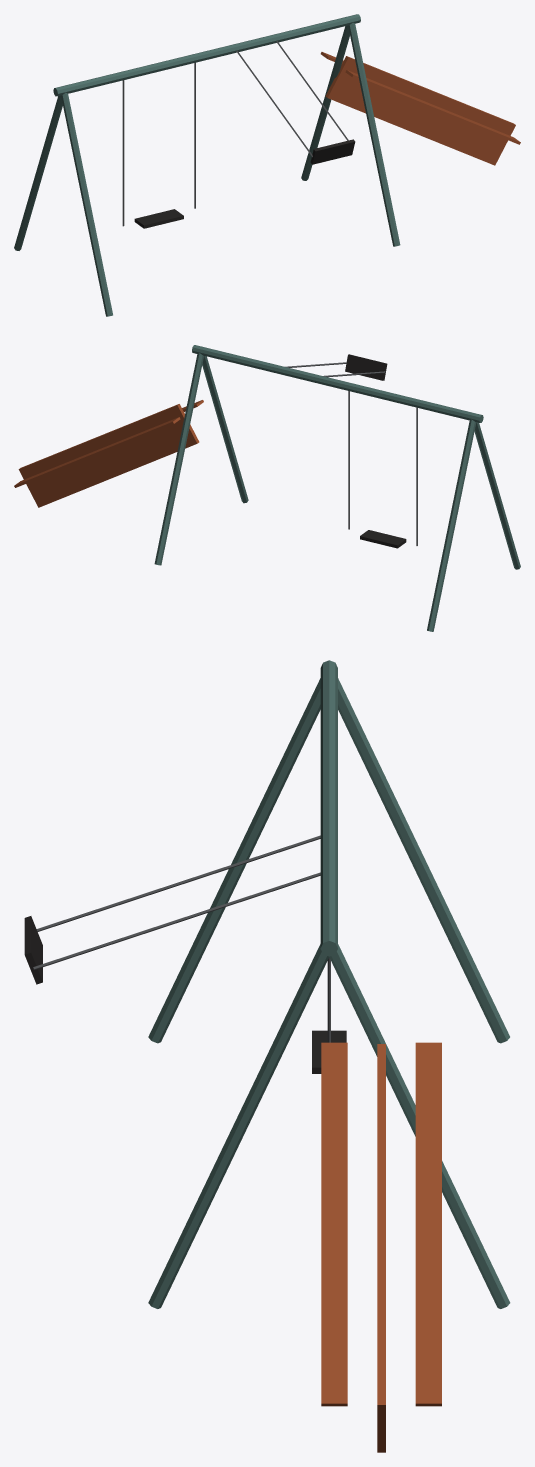
File: suburbs_swing.glb
3 views of the same model, one above another, from view 1: azimuth 30°, elevation 25°; view 2: azimuth 150°, elevation 25°; view 3: azimuth 270°, elevation 25° (orthographic). The views are drawn at different scales.
Visible parts, largest first — view 1: suburbs_swing; view 2: suburbs_swing; view 3: suburbs_swing.
Part boxes in pixels (box(x1,y1,x2,y2)): suburbs_swing: box(14, 14, 520, 316); suburbs_swing: box(14, 345, 520, 631); suburbs_swing: box(24, 660, 510, 1452).
Size of the model in its own units: 5.93 by 2.37 by 2.78.
